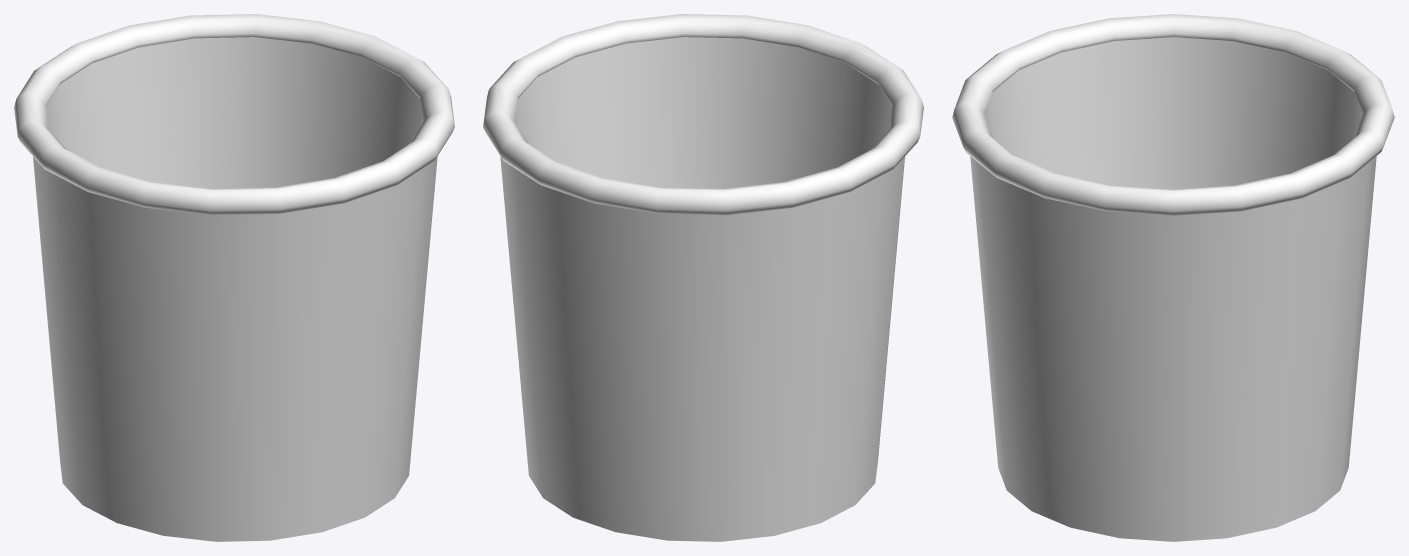
The model's file is Popcorn Empty.glb.
3 views of the same model, side by side, from view 1: azimuth 30°, elevation 25°; view 2: azimuth 150°, elevation 25°; view 3: azimuth 270°, elevation 25° (orthographic).
Parts seen in each view (by area): view 1: Popcorn Empty; view 2: Popcorn Empty; view 3: Popcorn Empty.
Boxes of the visible parts, x1=… form: Popcorn Empty: x1=14, y1=14, x2=454, y2=541; Popcorn Empty: x1=483, y1=14, x2=923, y2=541; Popcorn Empty: x1=952, y1=14, x2=1394, y2=541.
Bounding box in the file's own units: 0.2627 × 0.2416 × 0.2627.
Materials: 1 (1 with a texture image).
